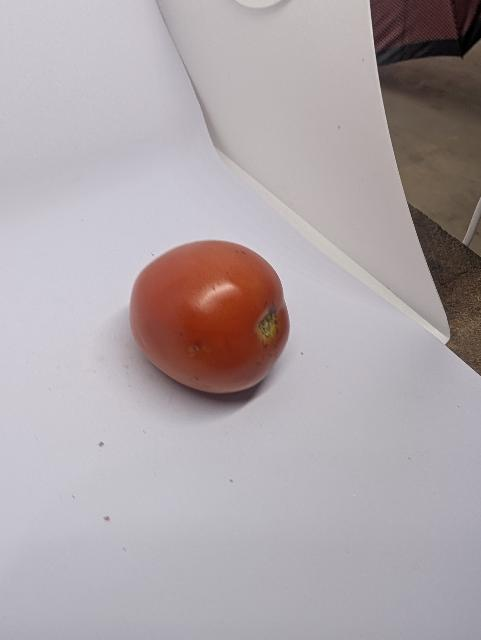red: (113, 225, 307, 414)
